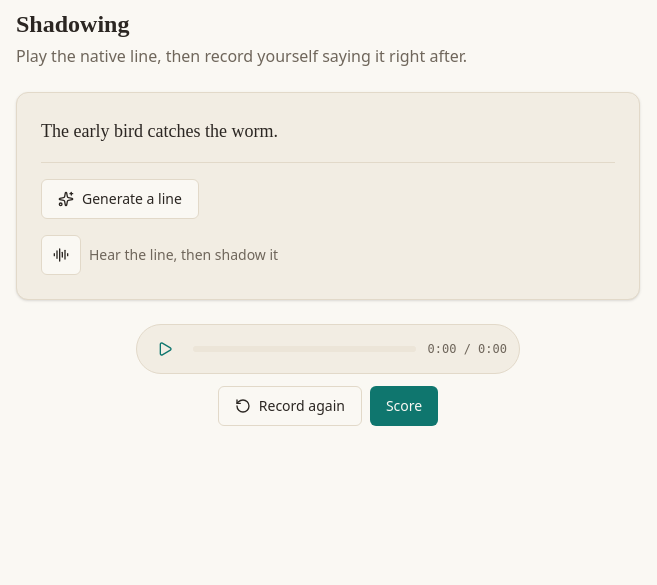
Test: Shadowing › should render the rhythm and intonation match scores after scoring
Click the button "Score".
click(404, 406)  # box [370, 386, 438, 426]
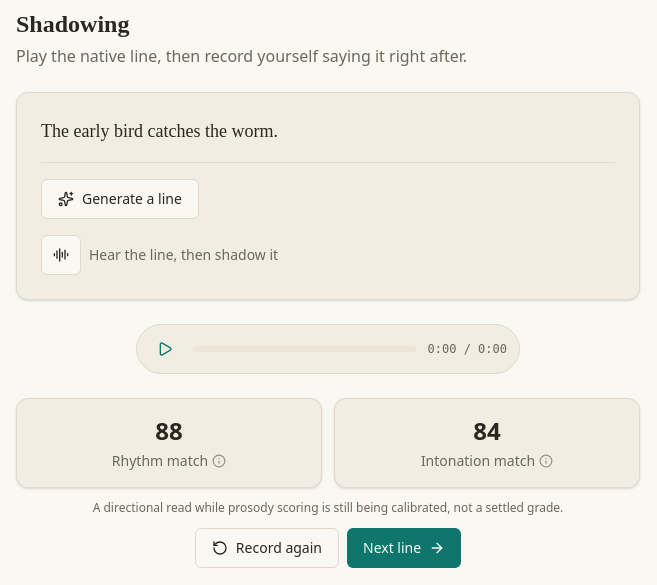
Now the text "Rhythm match" is shown, box [112, 451, 226, 471]
Now the text "88" is shown, box [155, 415, 183, 447]
Now the text "84" is shown, box [473, 415, 501, 447]
